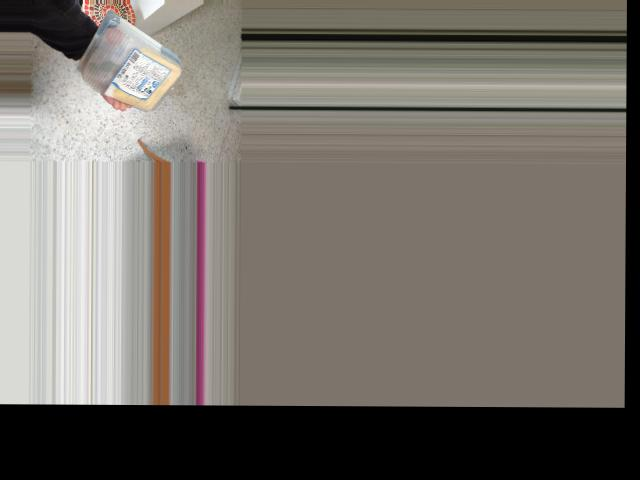cheese: (86, 25, 180, 110)
